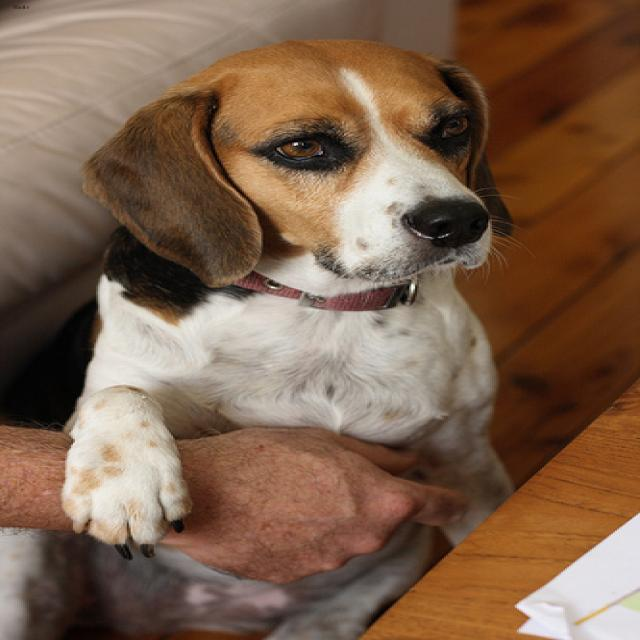dog-beagle: (42, 29, 536, 570)
